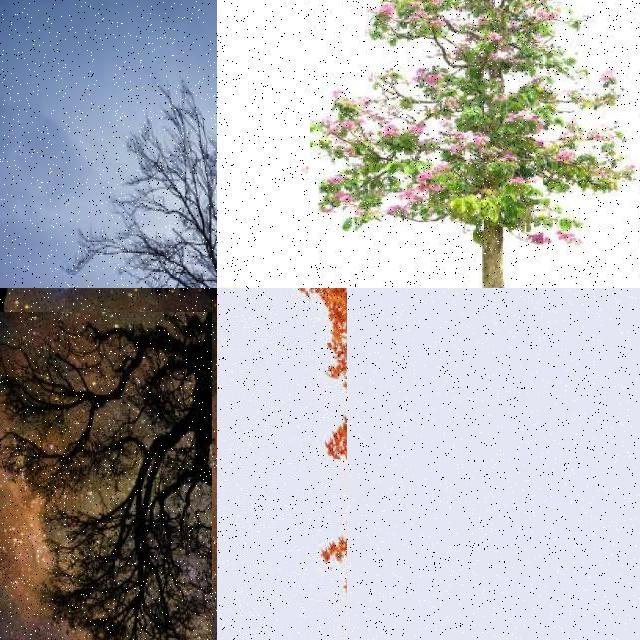tree: (310, 0, 640, 288), (0, 312, 212, 640), (217, 288, 347, 640), (75, 72, 217, 288)
